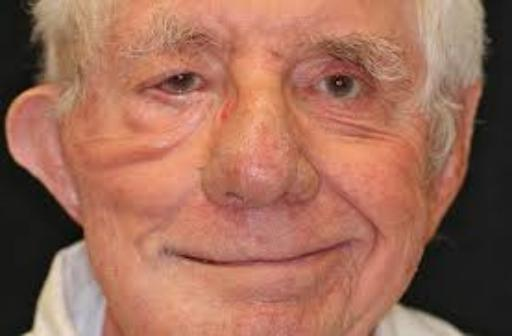left_eye: (305, 76, 378, 103)
left_lip_corner: (330, 233, 366, 252)
right_eye: (146, 71, 216, 99)
right_lip_corner: (153, 241, 196, 264)
